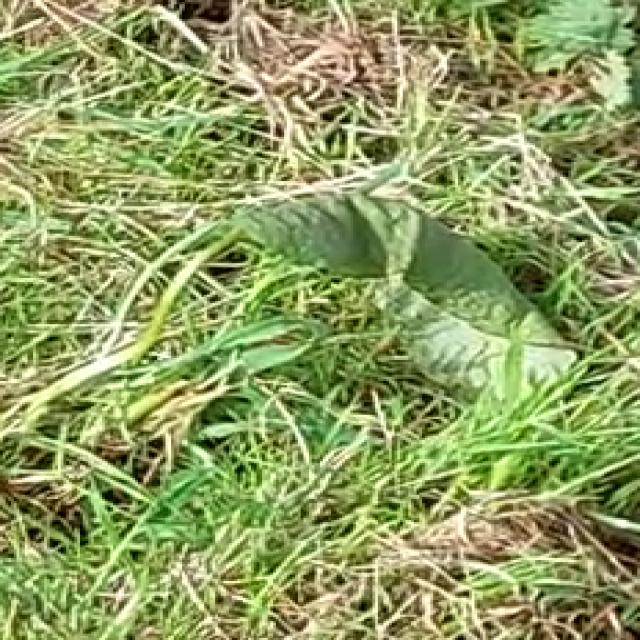organic waste: (177, 120, 604, 440)
